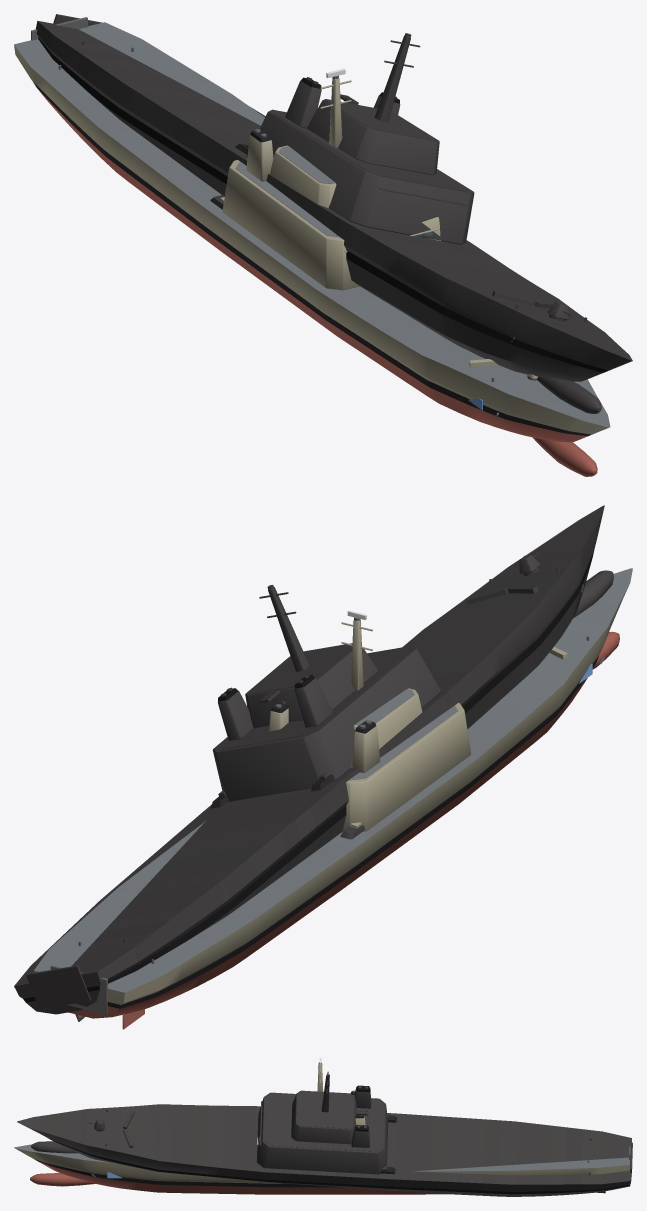
Rendered from landingShip__cheonwangbong_class.glb.
3 views of the same model, one above another, from view 1: azimuth 30°, elevation 25°; view 2: azimuth 150°, elevation 25°; view 3: azimuth 270°, elevation 25° (orthographic). The views are drawn at different scales.
Visible parts, largest first — view 1: Wreck, Hull_Mesh; view 2: Wreck, Hull_Mesh; view 3: Wreck, Hull_Mesh.
Part boxes in pixels (box(x1,y1,x2,y2)): Wreck: box(36, 14, 632, 413); Hull_Mesh: box(14, 17, 610, 476); Wreck: box(14, 505, 613, 1021); Hull_Mesh: box(33, 568, 632, 1029); Wreck: box(17, 1071, 632, 1196); Hull_Mesh: box(14, 1064, 630, 1194).
Size of what is drawn, in the model's own units: 23.08 by 31.81 by 133.
